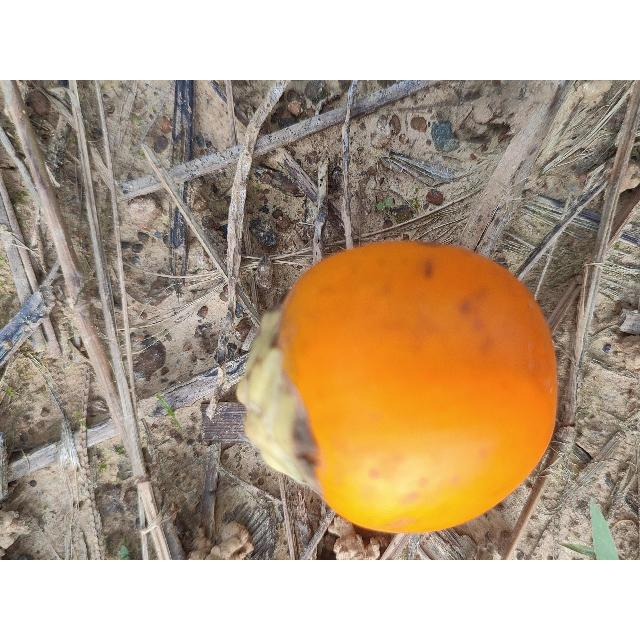good: (236, 240, 560, 536)
